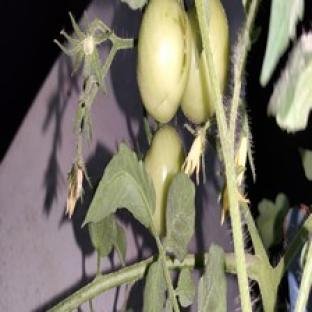Tomato: (144, 126, 183, 236), (182, 7, 214, 123)
